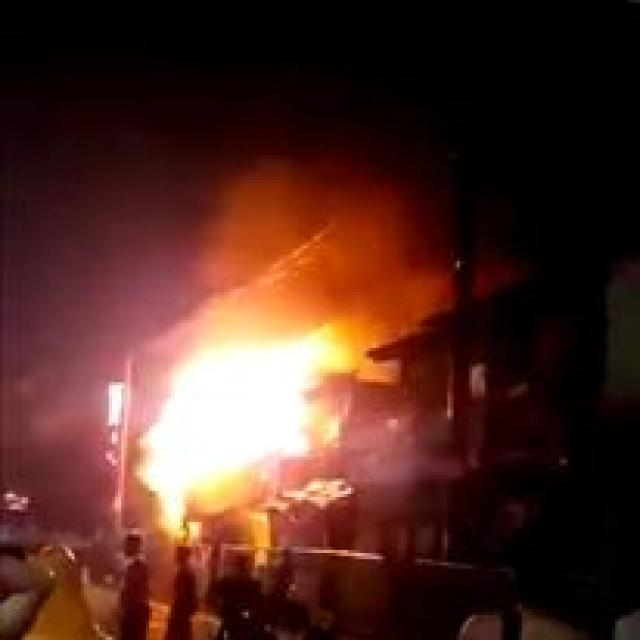Fire: (144, 307, 358, 520)
Smoke: (190, 157, 422, 357)
